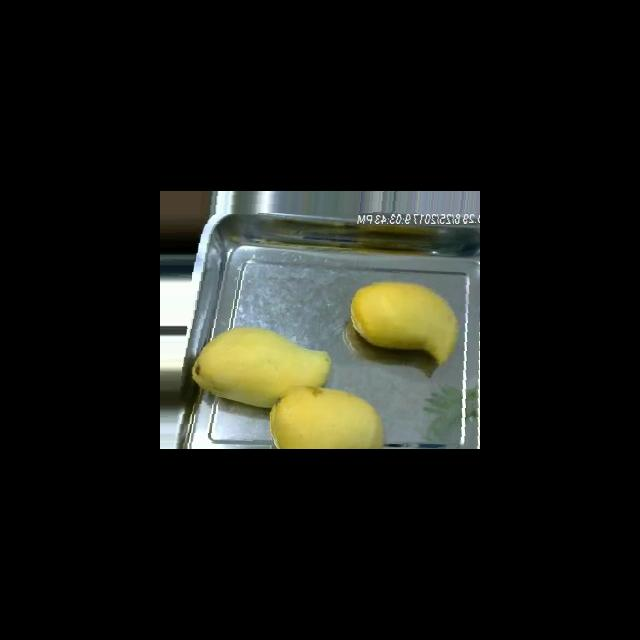Mango: (191, 326, 331, 408), (349, 280, 458, 365), (269, 385, 384, 448)
